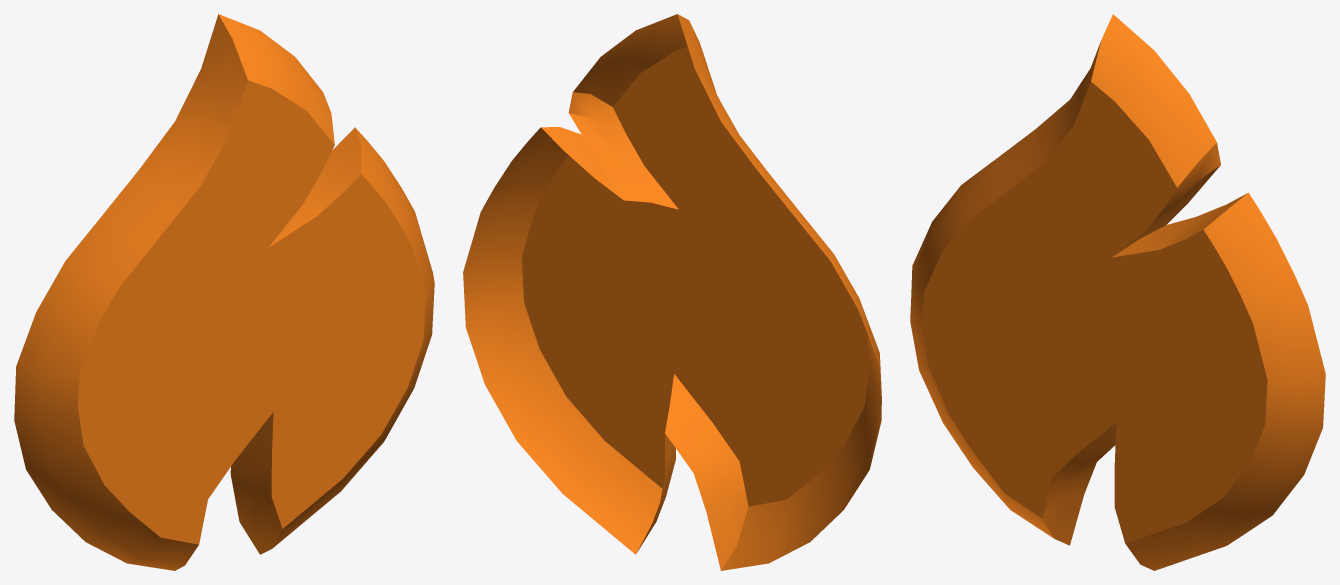
Rendered from Fire Icon Multi.fbx.
The picture shows the model from 3 angles, left to right: view 1: azimuth 30°, elevation 25°; view 2: azimuth 150°, elevation 25°; view 3: azimuth 330°, elevation 25°; orthographic projection.
Visible parts, largest first — view 1: Fire Icon; view 2: Fire Icon; view 3: Fire Icon.
Boxes of the visible parts, left/top/right/bottom form: Fire Icon: left=14, top=14, right=434, bottom=570; Fire Icon: left=463, top=14, right=881, bottom=570; Fire Icon: left=910, top=14, right=1325, bottom=570.
Bounding box in the file's own units: 0.4606 × 0.5794 × 0.0494.
